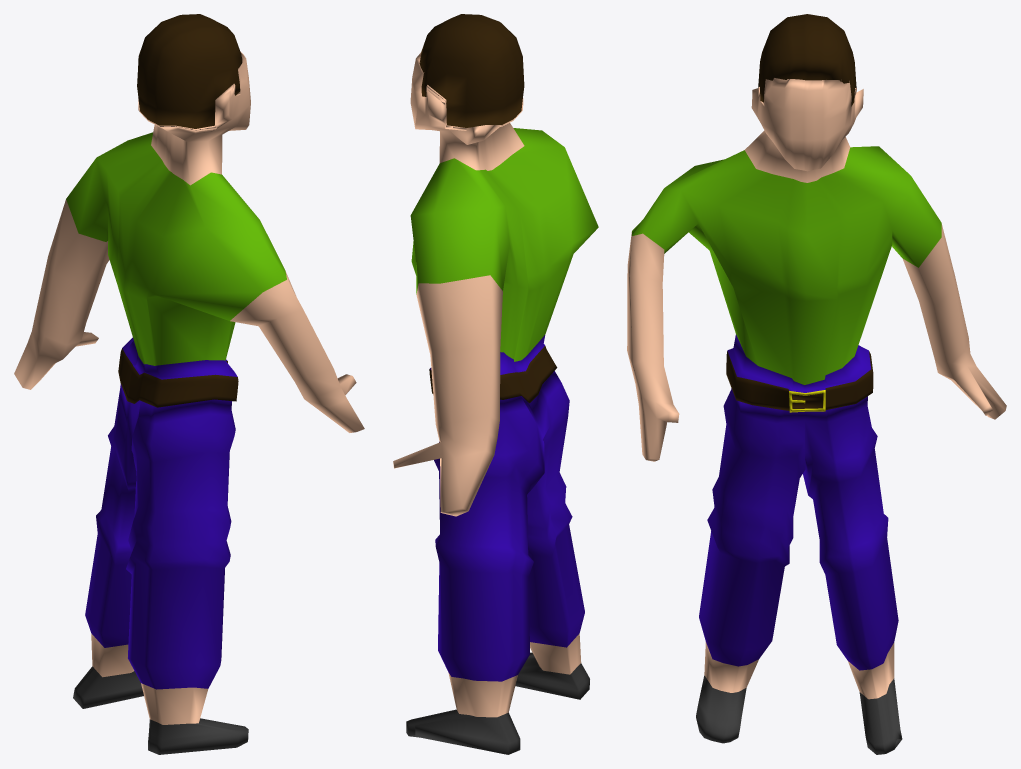
The model's file is low poly character.fbx.
3 views of the same model, side by side, from view 1: azimuth 30°, elevation 25°; view 2: azimuth 150°, elevation 25°; view 3: azimuth 270°, elevation 25° (orthographic). The views are drawn at different scales.
Parts seen in each view (by area): view 1: Cube; view 2: Cube; view 3: Cube.
Boxes of the visible parts, x1,y1,x2,y2 form: Cube: (14,14,364,754); Cube: (393,14,598,754); Cube: (627,14,1006,754).
Bounding box in the file's own units: 49.72 × 176 × 84.06.
